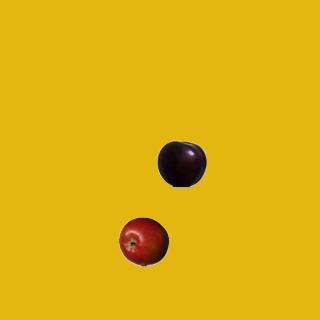Apple Braeburn: (118, 216, 168, 266)
Cherry Wax Black: (156, 138, 206, 188)
